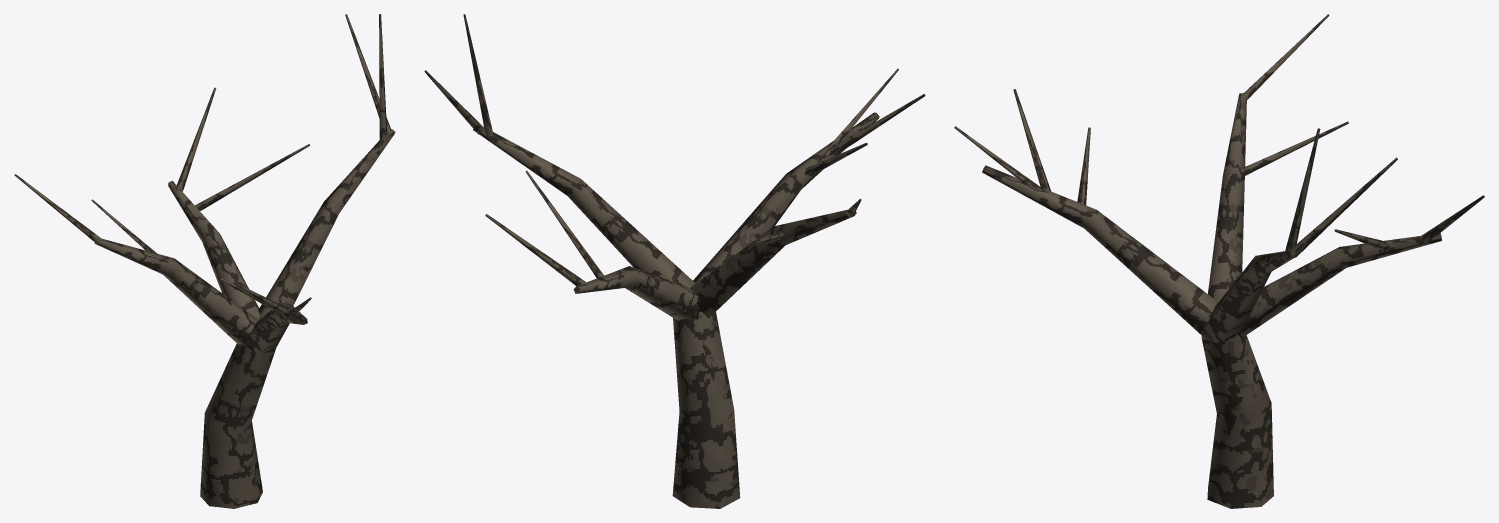
File: dead0_none_lod0.fbx
3 views of the same model, side by side, from view 1: azimuth 30°, elevation 25°; view 2: azimuth 150°, elevation 25°; view 3: azimuth 270°, elevation 25° (orthographic). The views are drawn at different scales.
Visible parts, largest first — view 1: dead0_none_lod0; view 2: dead0_none_lod0; view 3: dead0_none_lod0.
Boxes of the visible parts, <box> form: dead0_none_lod0: <box>14,14,395,508</box>; dead0_none_lod0: <box>424,14,925,508</box>; dead0_none_lod0: <box>954,14,1484,508</box>.
Size of the model in its own units: 7.26 by 7.85 by 8.06.
1 material, 1 textured.
